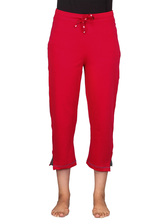clothoes: (44, 7, 125, 179)
